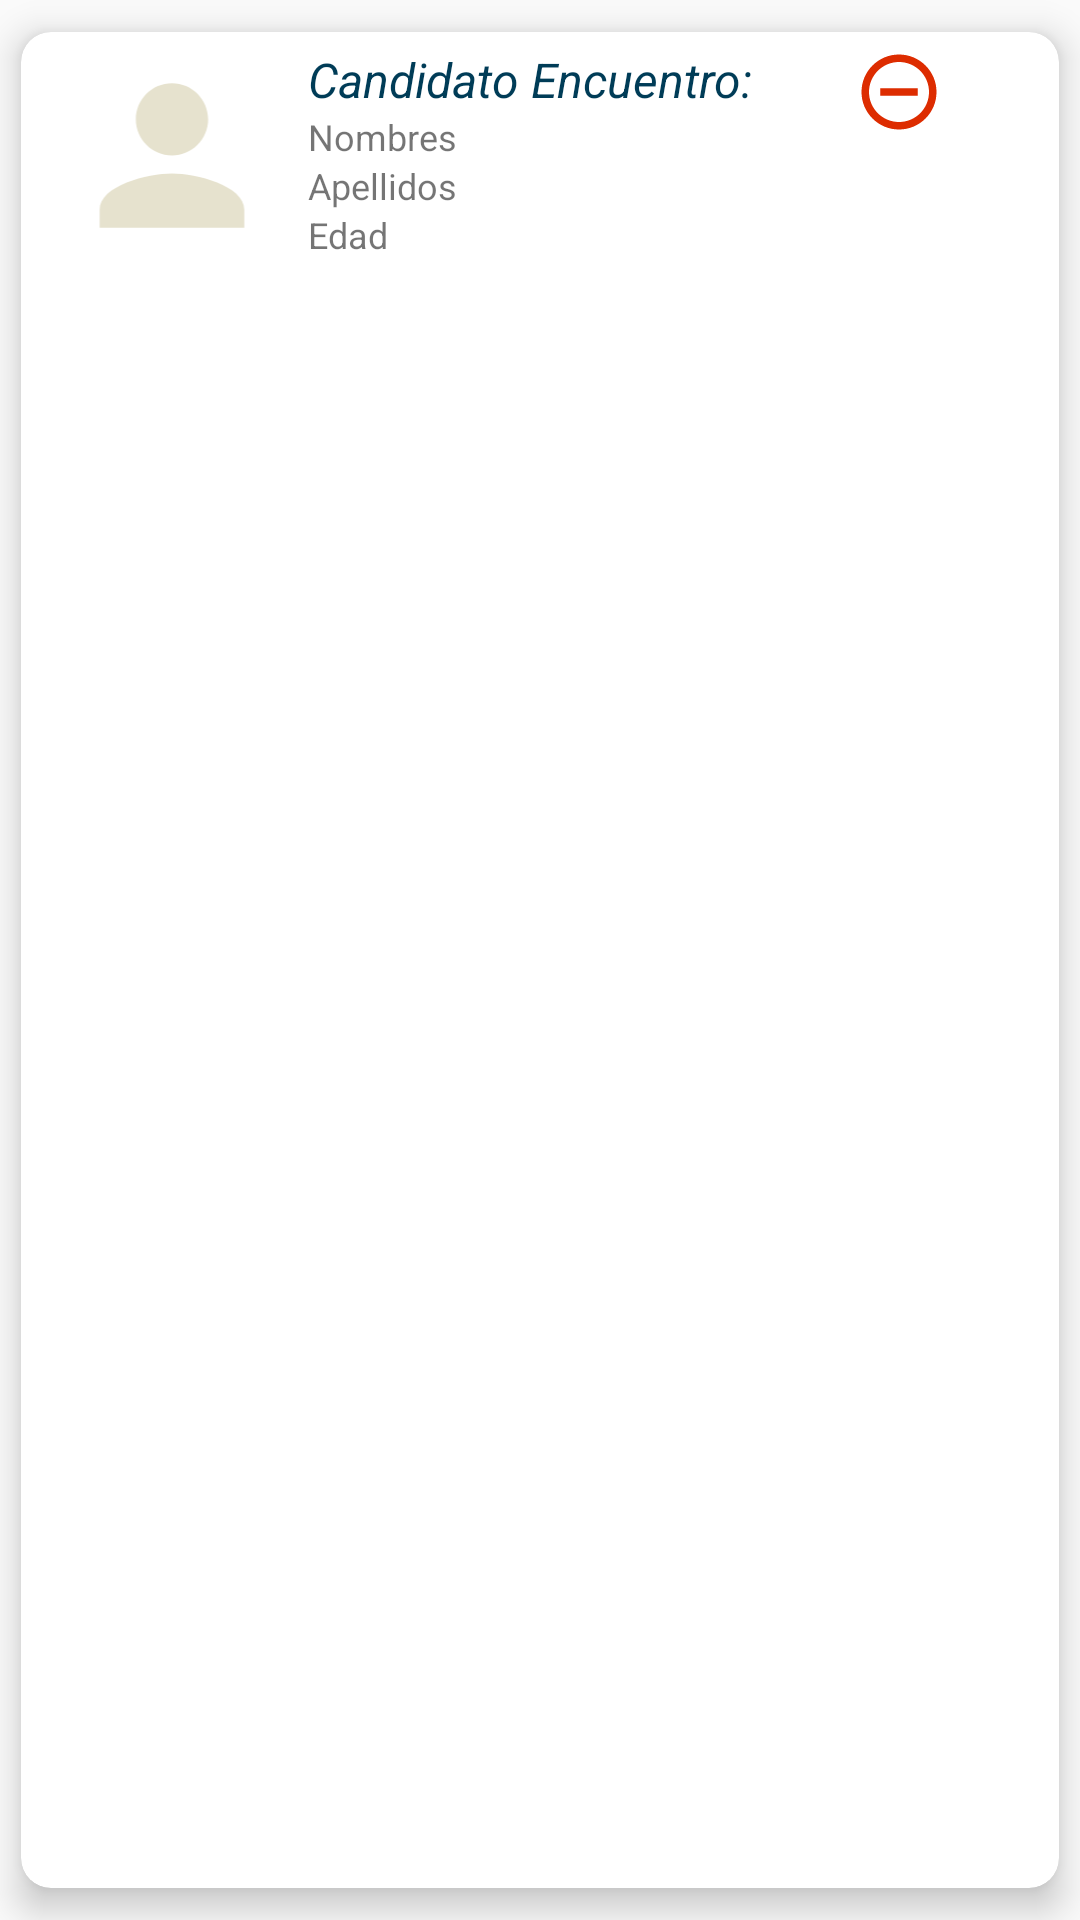

Icon click points for this 1080w x 1920h phone screenshot, format (x=x, y=y):
person: (x=172, y=155)
remove: (x=899, y=92)
